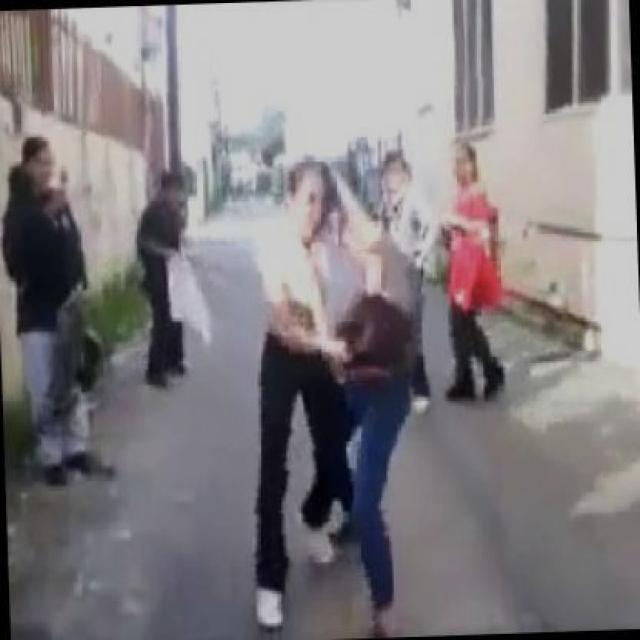fight: (229, 139, 460, 637)
non-fight: (0, 123, 111, 485), (438, 136, 512, 402), (123, 169, 202, 389)
